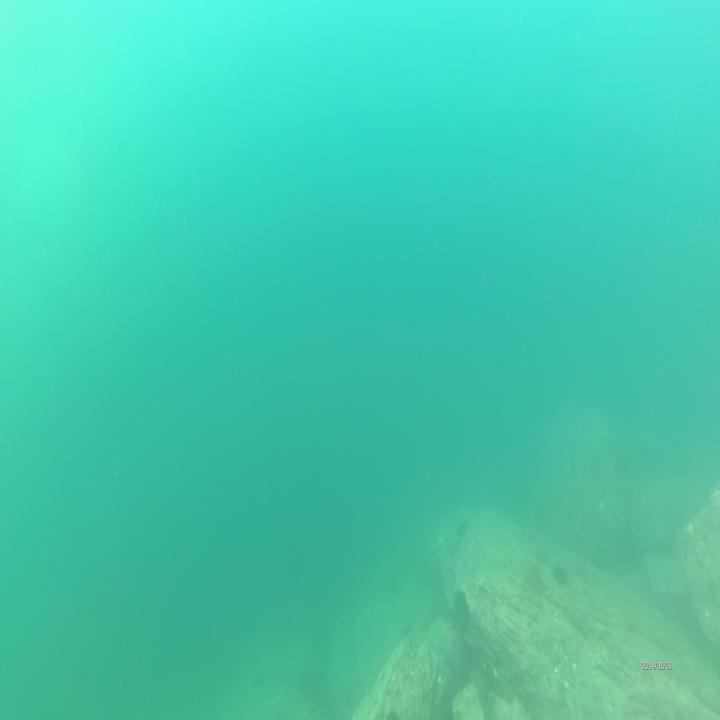echinus: (552, 558, 570, 591), (573, 553, 590, 585), (526, 557, 542, 588), (452, 588, 469, 616), (456, 517, 472, 541), (388, 578, 402, 598), (248, 673, 263, 689), (399, 622, 411, 638)
